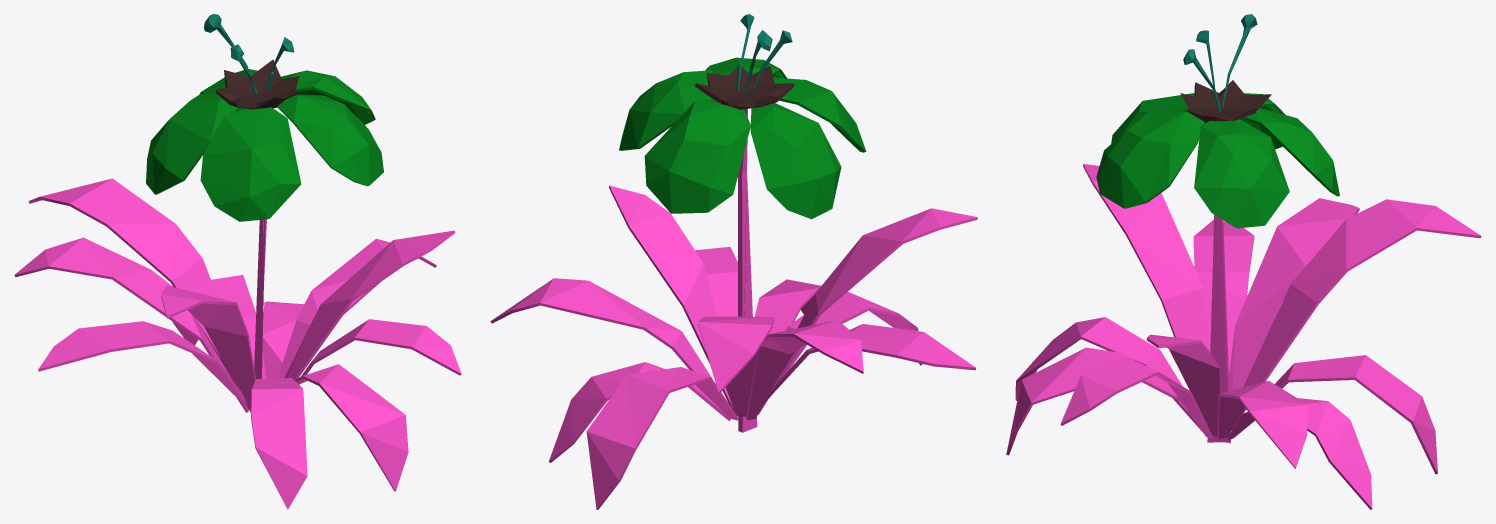
The model's file is ShrubJungleRedSmall01.fbx.
The picture shows the model from 3 angles, left to right: view 1: azimuth 30°, elevation 25°; view 2: azimuth 150°, elevation 25°; view 3: azimuth 270°, elevation 25°; orthographic projection.
Visible parts, largest first — view 1: ShrubJungleRedSmall01_LOD0; view 2: ShrubJungleRedSmall01_LOD0; view 3: ShrubJungleRedSmall01_LOD0.
Part boxes in pixels (left/top/right/bottom): ShrubJungleRedSmall01_LOD0: left=14, top=14, right=461, bottom=509; ShrubJungleRedSmall01_LOD0: left=490, top=14, right=977, bottom=509; ShrubJungleRedSmall01_LOD0: left=1006, top=14, right=1481, bottom=509.
Size of what is drawn, in the model's own units: 102 by 92.95 by 94.08.
